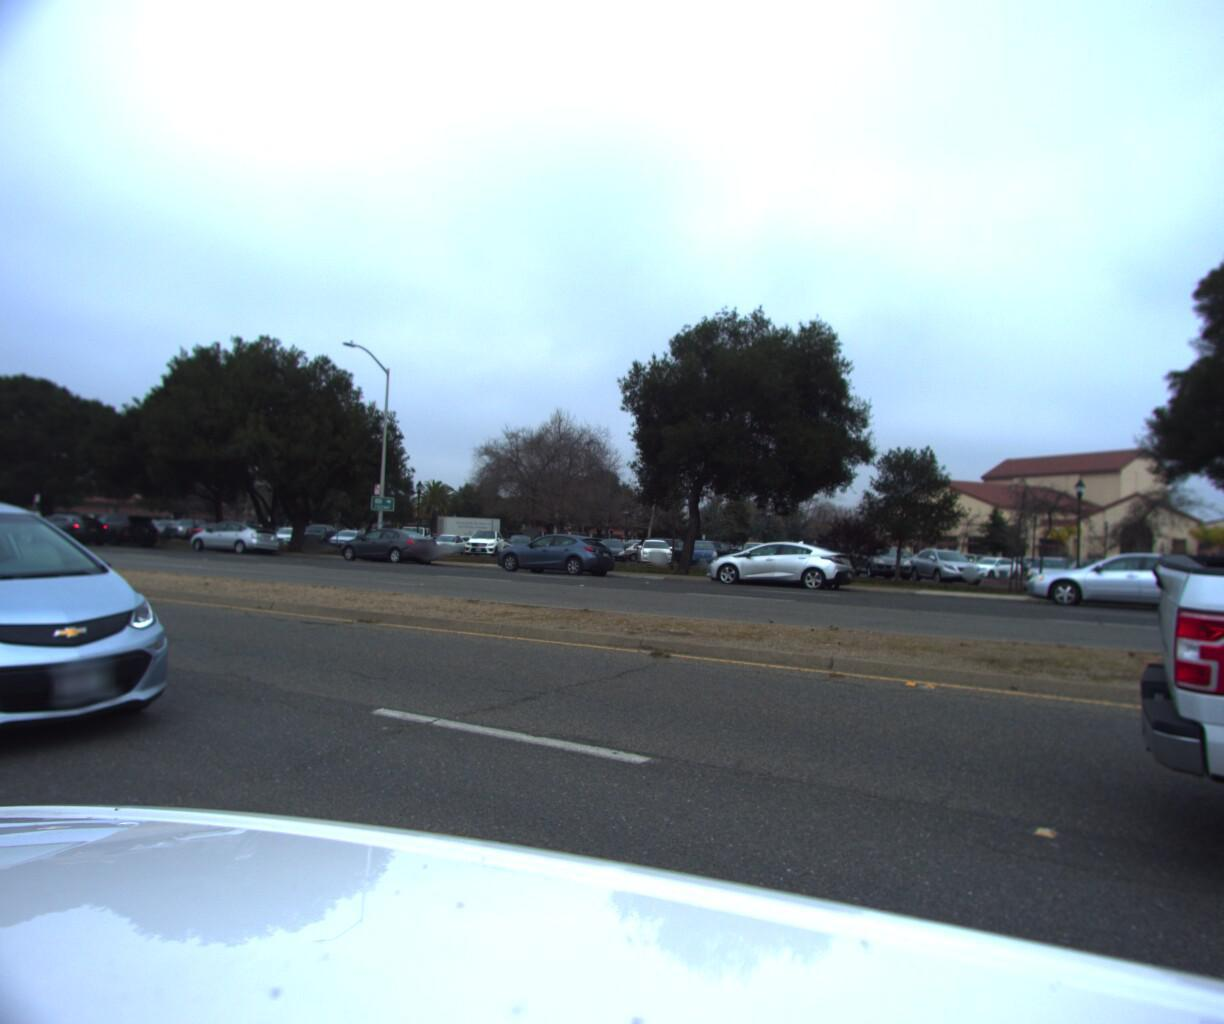car: (1121, 165, 1224, 1024), (0, 498, 244, 798), (1011, 545, 1224, 617), (690, 536, 859, 592), (484, 532, 622, 581), (328, 528, 445, 569), (179, 522, 283, 559), (68, 516, 160, 552), (24, 514, 117, 547)
